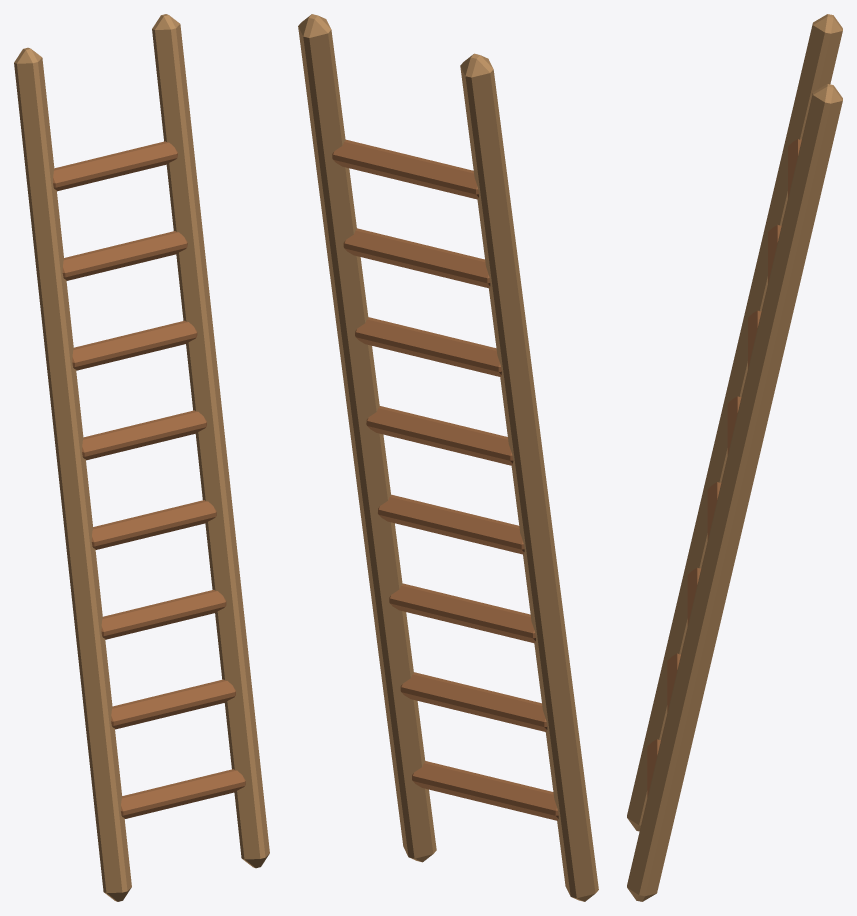
The model's file is ladder.glb.
3 views of the same model, side by side, from view 1: azimuth 30°, elevation 25°; view 2: azimuth 150°, elevation 25°; view 3: azimuth 270°, elevation 25° (orthographic). The views are drawn at different scales.
Visible parts, largest first — view 1: body; view 2: body; view 3: body.
Boxes of the visible parts, x1,y1,x2,y2 form: body: (14,14,269,901); body: (298,14,598,901); body: (627,14,842,901).
Bounding box in the file's own units: 0.64 × 2.94 × 0.7049.
